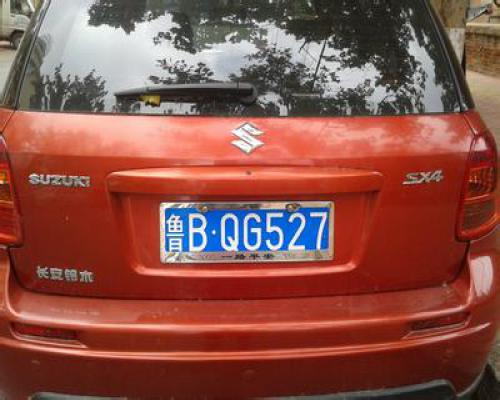Carplate: (152, 199, 344, 269)
